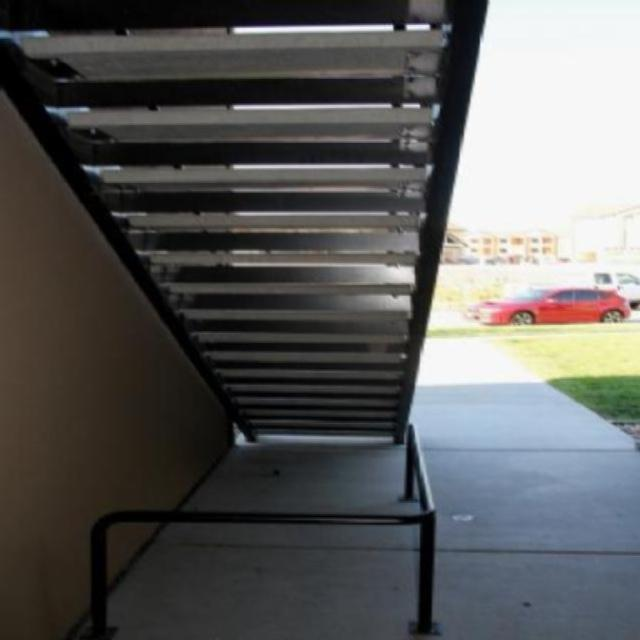stair: (52, 1, 540, 524)
